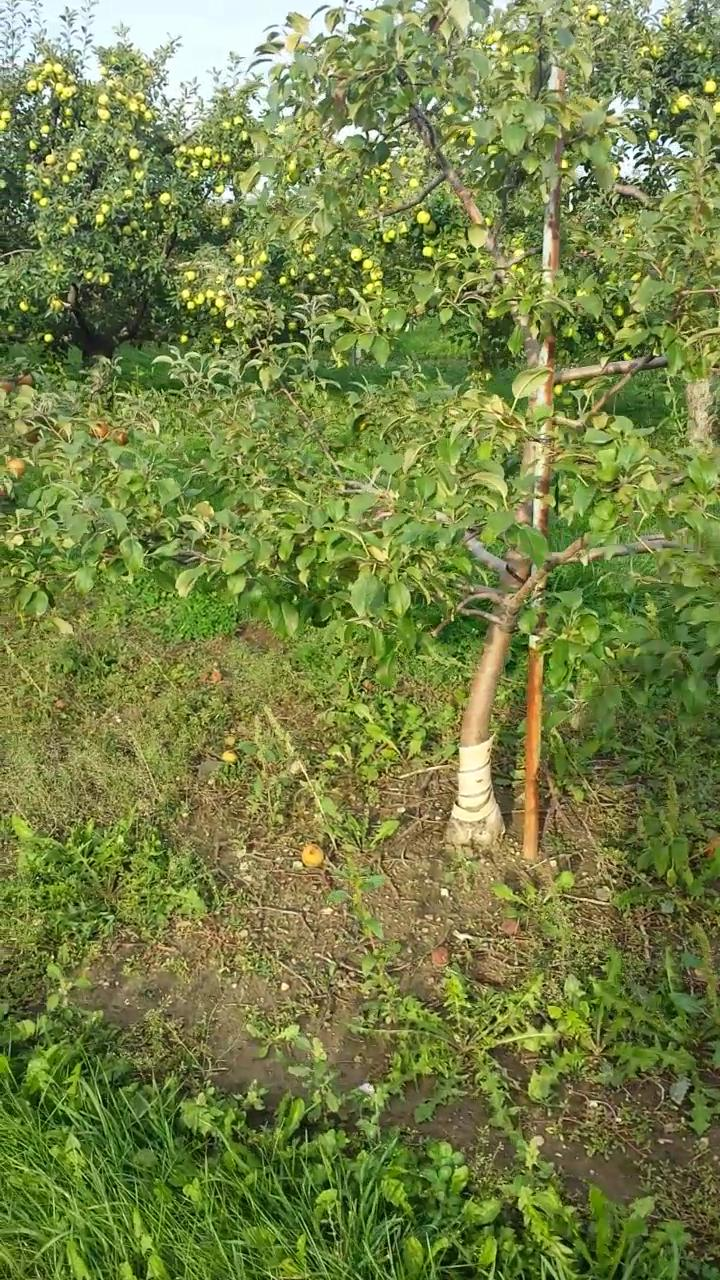Apple: (6, 457, 29, 476), (90, 421, 108, 438), (17, 370, 34, 386), (0, 379, 18, 393), (115, 432, 131, 443)
